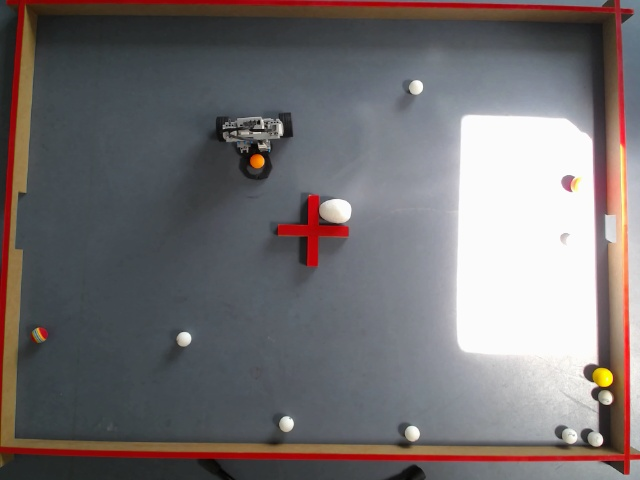big_goal: (1, 191, 26, 252)
cross: (276, 195, 348, 267)
egg: (318, 198, 351, 224)
orange: (250, 153, 263, 168)
robot: (215, 111, 295, 180)
small_goal: (604, 212, 628, 243)
wall: (6, 0, 632, 26), (0, 437, 638, 459), (601, 0, 628, 474)
white: (175, 332, 192, 348), (278, 416, 294, 432), (404, 425, 418, 441), (562, 428, 576, 443), (588, 432, 602, 447), (598, 390, 612, 405), (566, 233, 578, 249), (408, 80, 422, 93)
